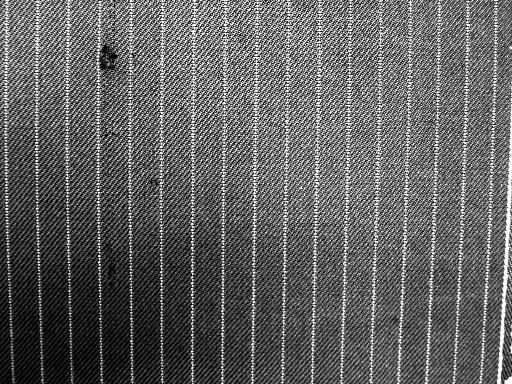fabric_hole: (94, 41, 131, 74), (144, 169, 175, 196)
